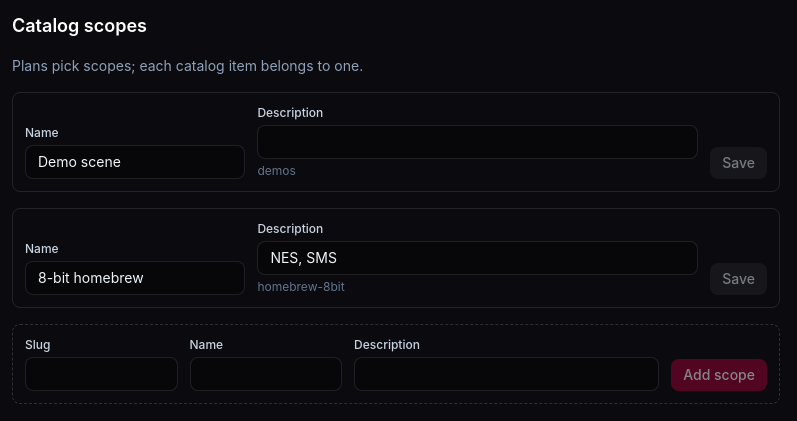
it: Catalog scopes (US-F4, D37) › a scope row keeps typed edits across a refetch that changes another row
Type ", SNES" into the 2nd field labelled "Description" at [478, 258], box left=257, top=241, right=698, bottom=275
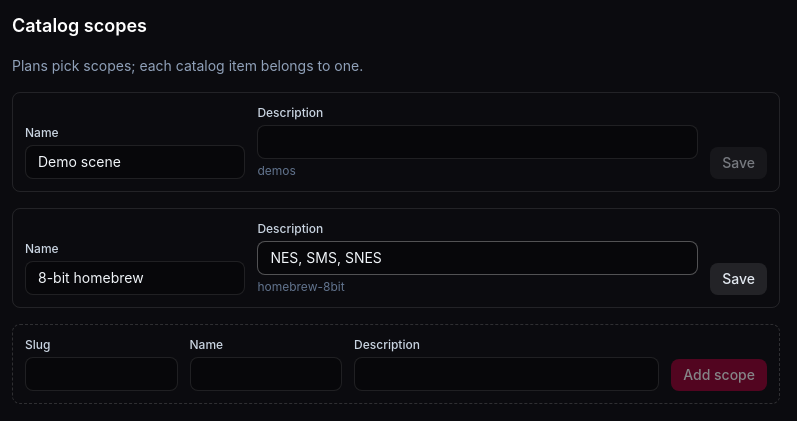
Replace the text in the field labelled "Name" next to "demos" with "Demos" at [135, 162], box left=25, top=145, right=245, bottom=179
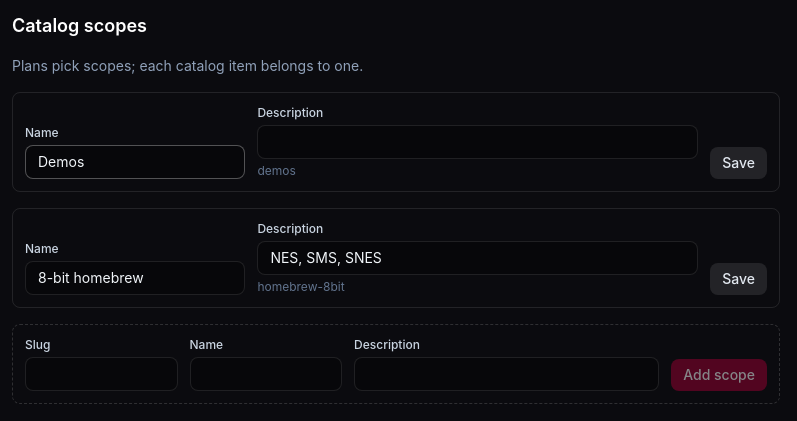
Click the button "Save" in the row of "demos" at [739, 163], box left=710, top=147, right=767, bottom=179
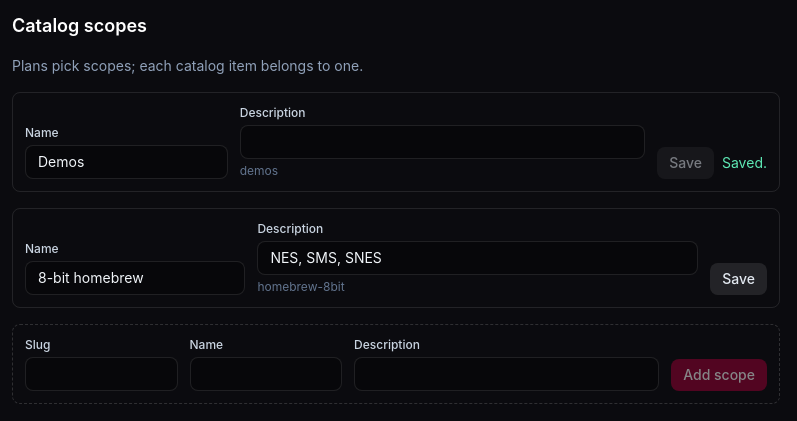
Expected: the field labelled "Name" next to "demos" holds "Demos", left=25, top=145, right=228, bottom=179
Expected: the 2nd field labelled "Description" holds "NES, SMS, SNES", left=257, top=241, right=698, bottom=275
Expected: the message "Saved." is shown, left=722, top=153, right=767, bottom=173
